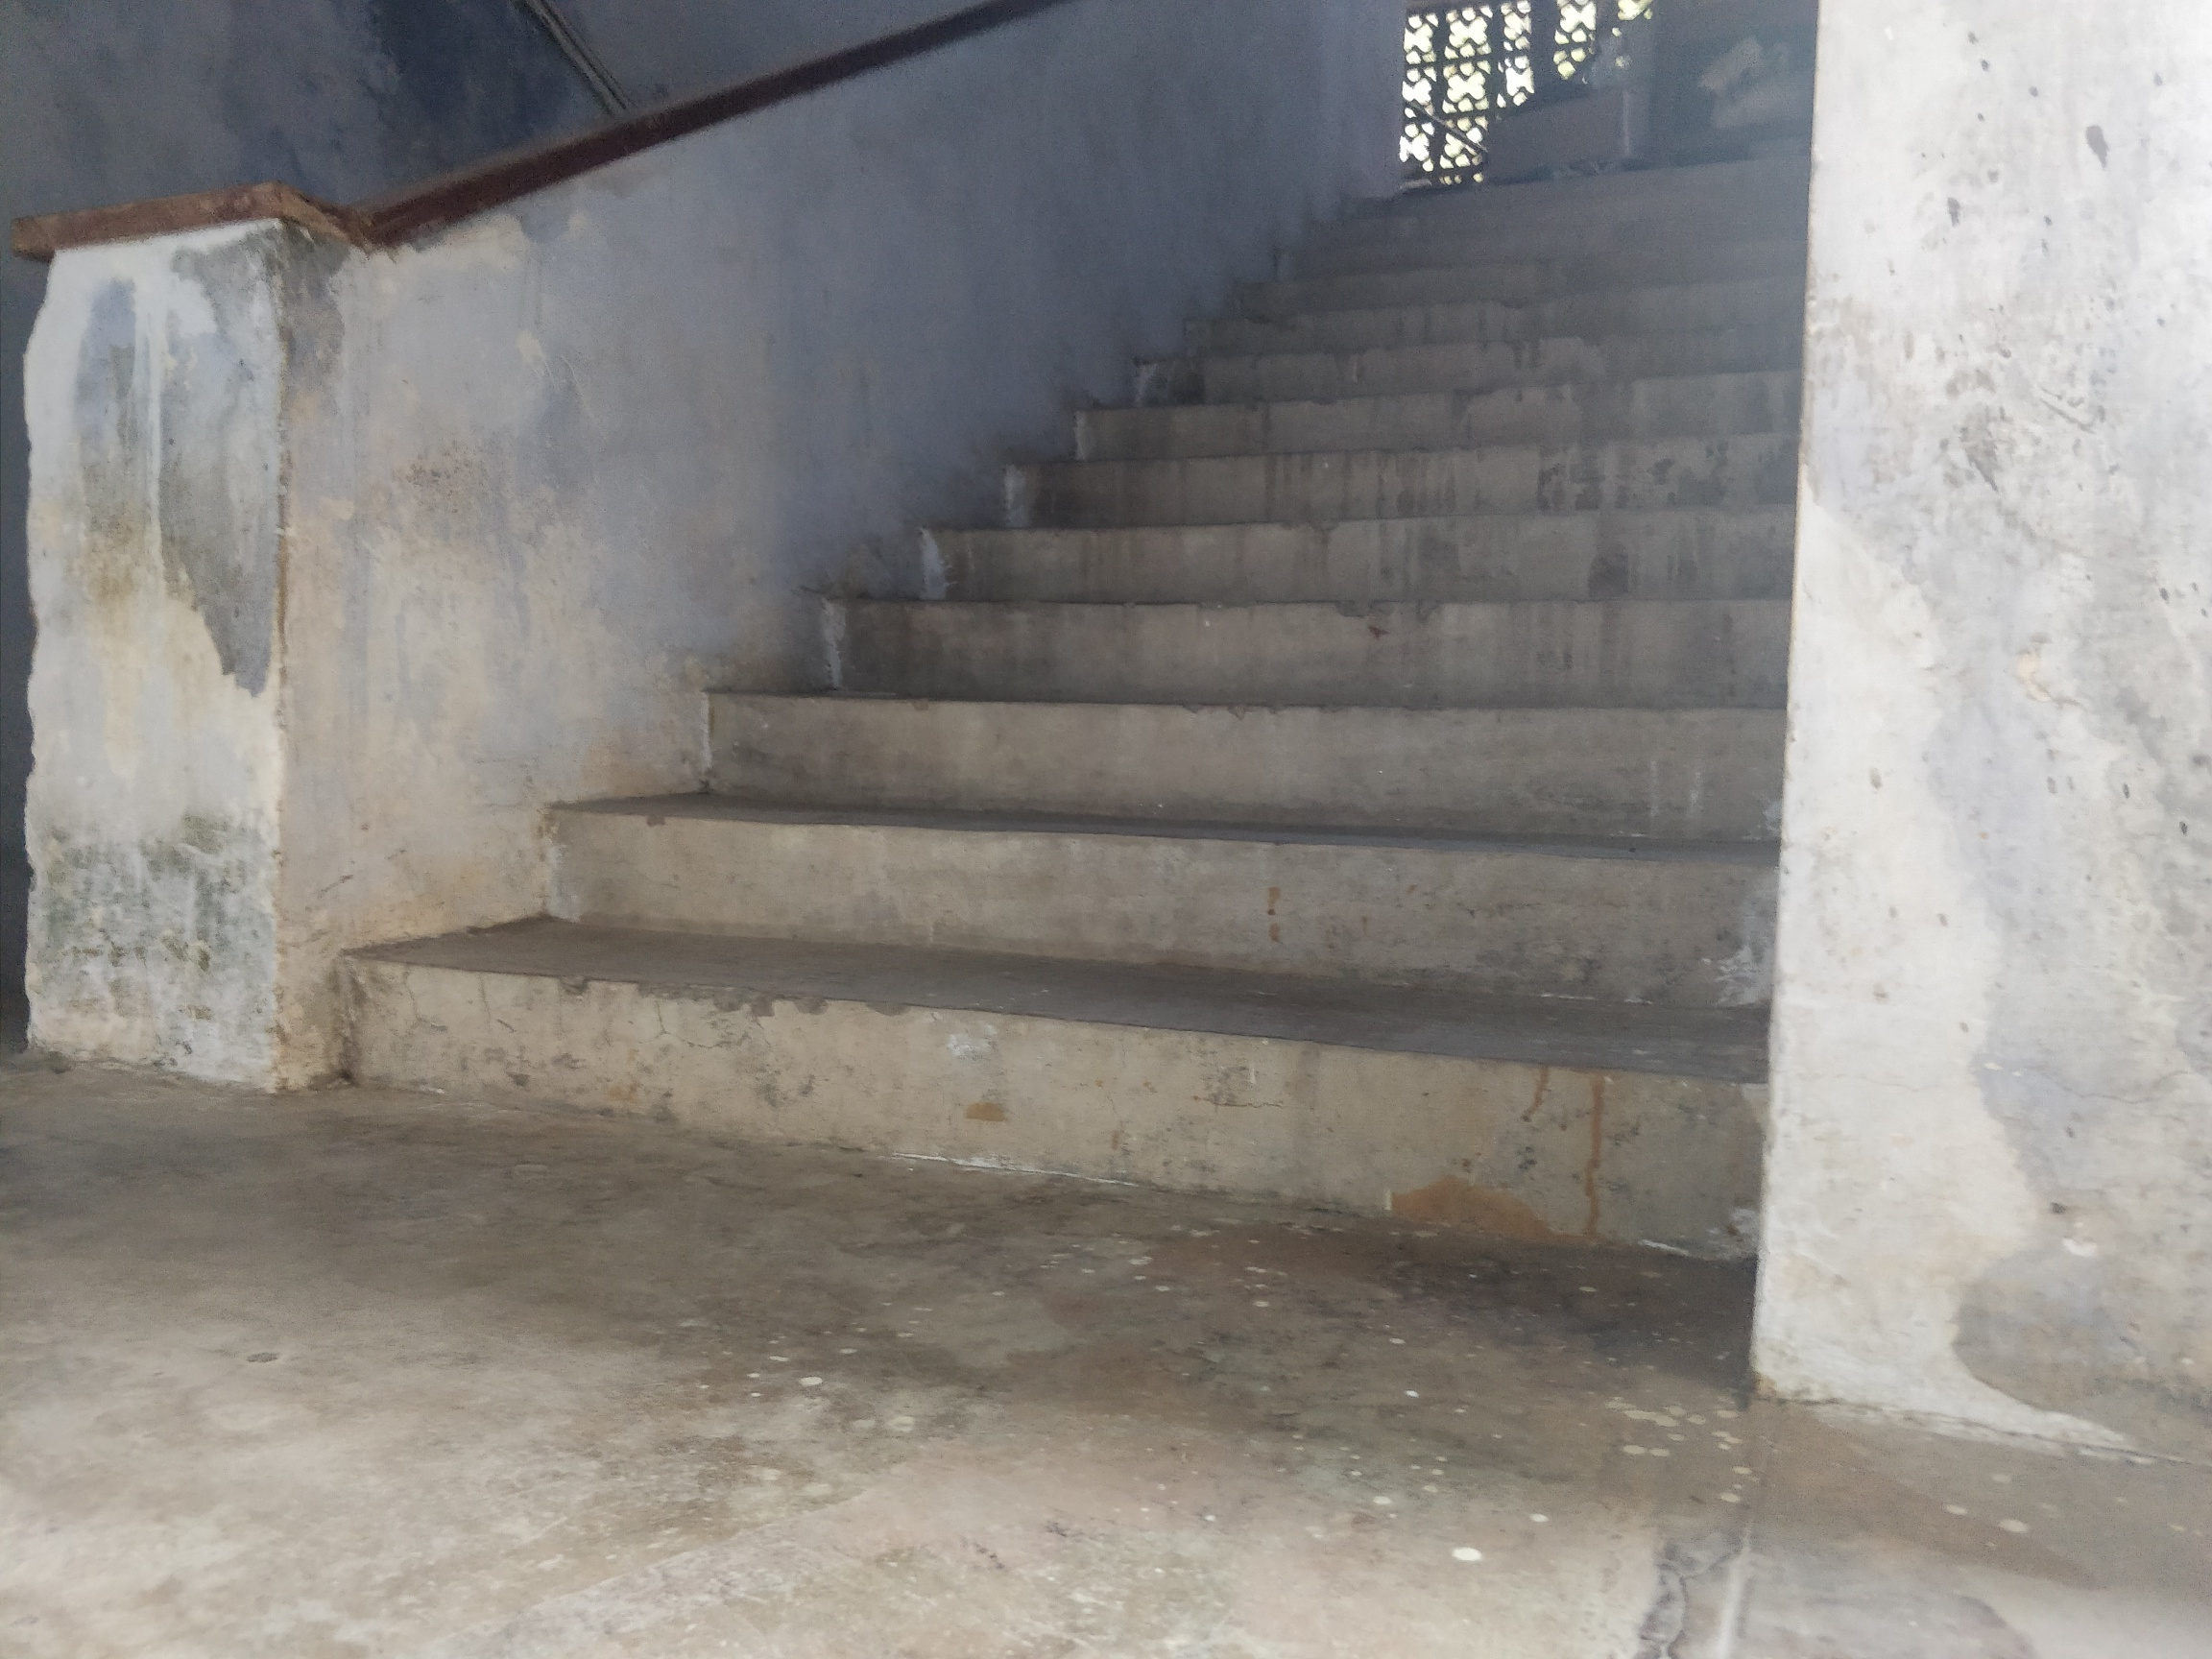stairs_up: (265, 120, 1820, 1241)
